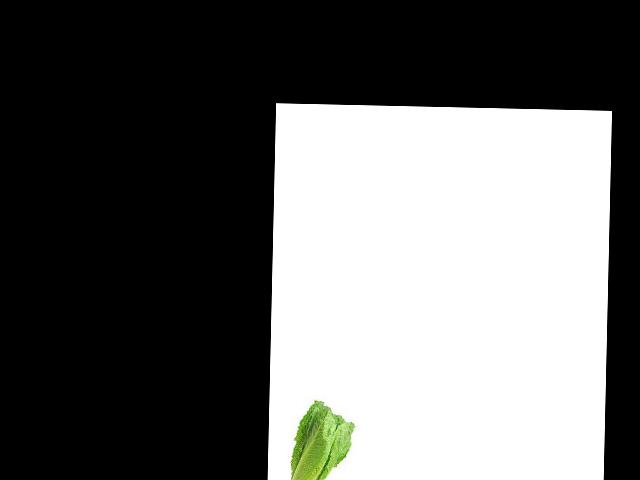lettuce: (268, 383, 361, 480)
